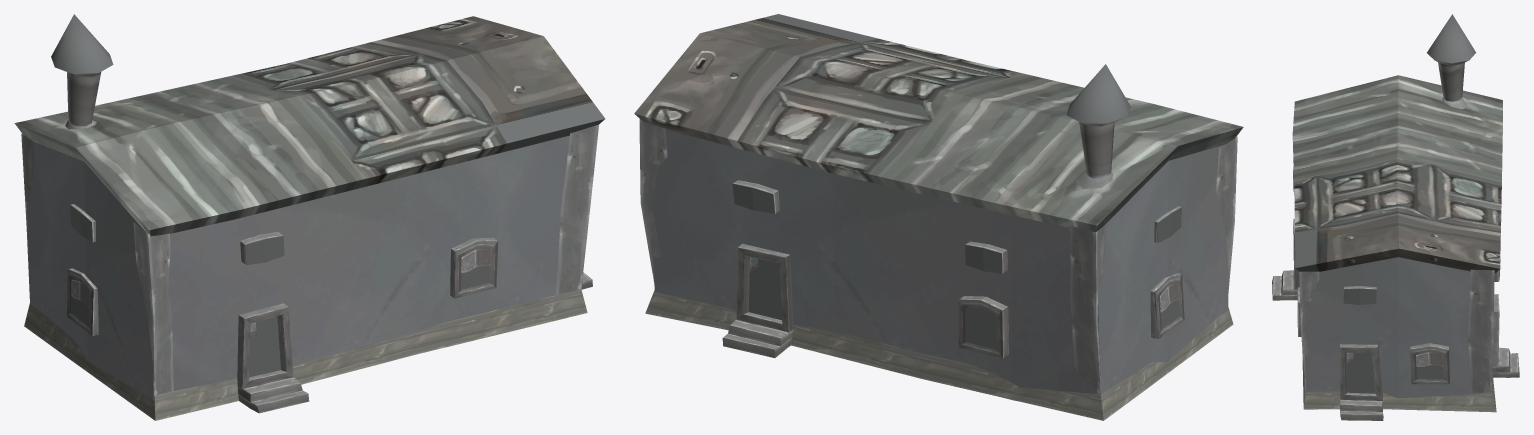
File: SmallHouse1.fbx
3 views of the same model, side by side, from view 1: azimuth 30°, elevation 25°; view 2: azimuth 150°, elevation 25°; view 3: azimuth 270°, elevation 25° (orthographic). The views are drawn at different scales.
Visible parts, largest first — view 1: SmallHouse1_OUT; view 2: SmallHouse1_OUT; view 3: SmallHouse1_OUT.
Boxes of the visible parts, box(x1,y1,x2,y2) form: SmallHouse1_OUT: box(14, 14, 605, 420); SmallHouse1_OUT: box(634, 14, 1243, 420); SmallHouse1_OUT: box(1272, 14, 1519, 420).
Size of the model in its own units: 1110 by 725 by 663.
